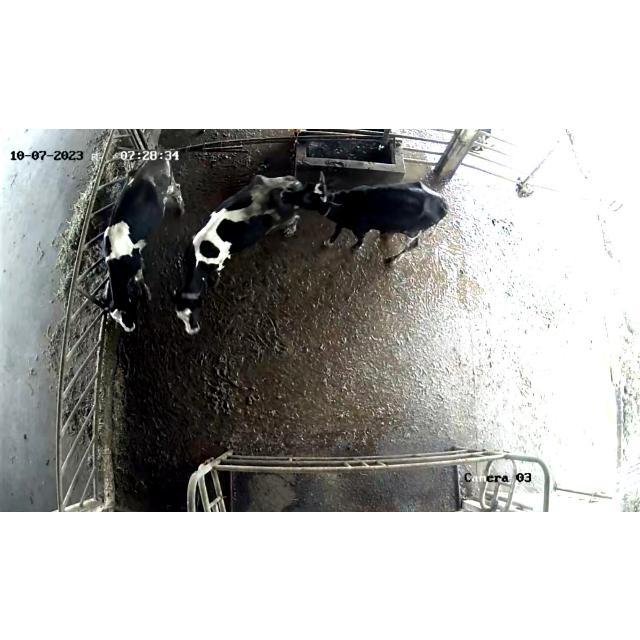propping: (252, 168, 364, 230)
